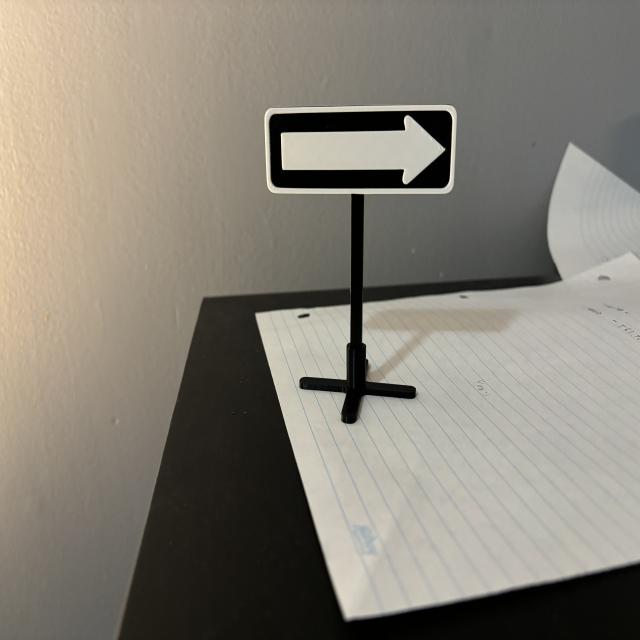sign_oneway_right: (266, 107, 458, 194)
